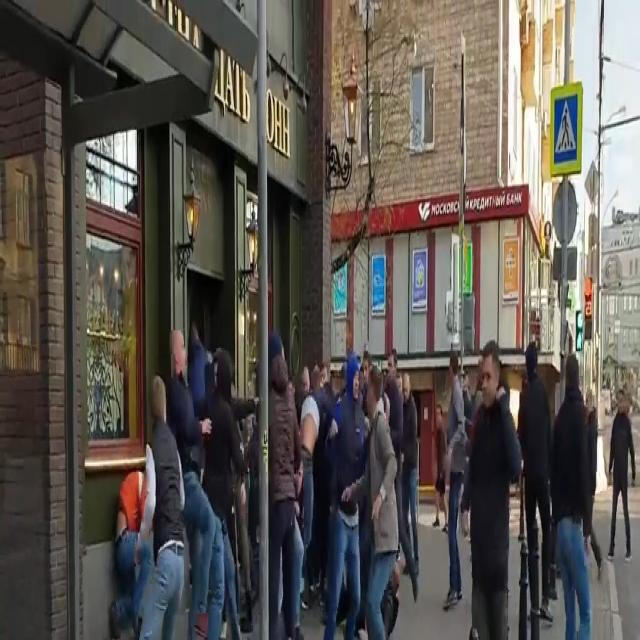fight: (105, 324, 203, 613), (333, 309, 409, 640), (278, 298, 325, 623), (214, 304, 257, 634)
